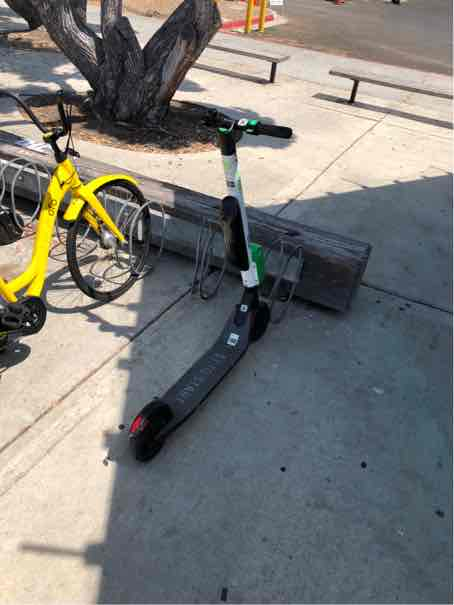scooter: (120, 96, 316, 468)
